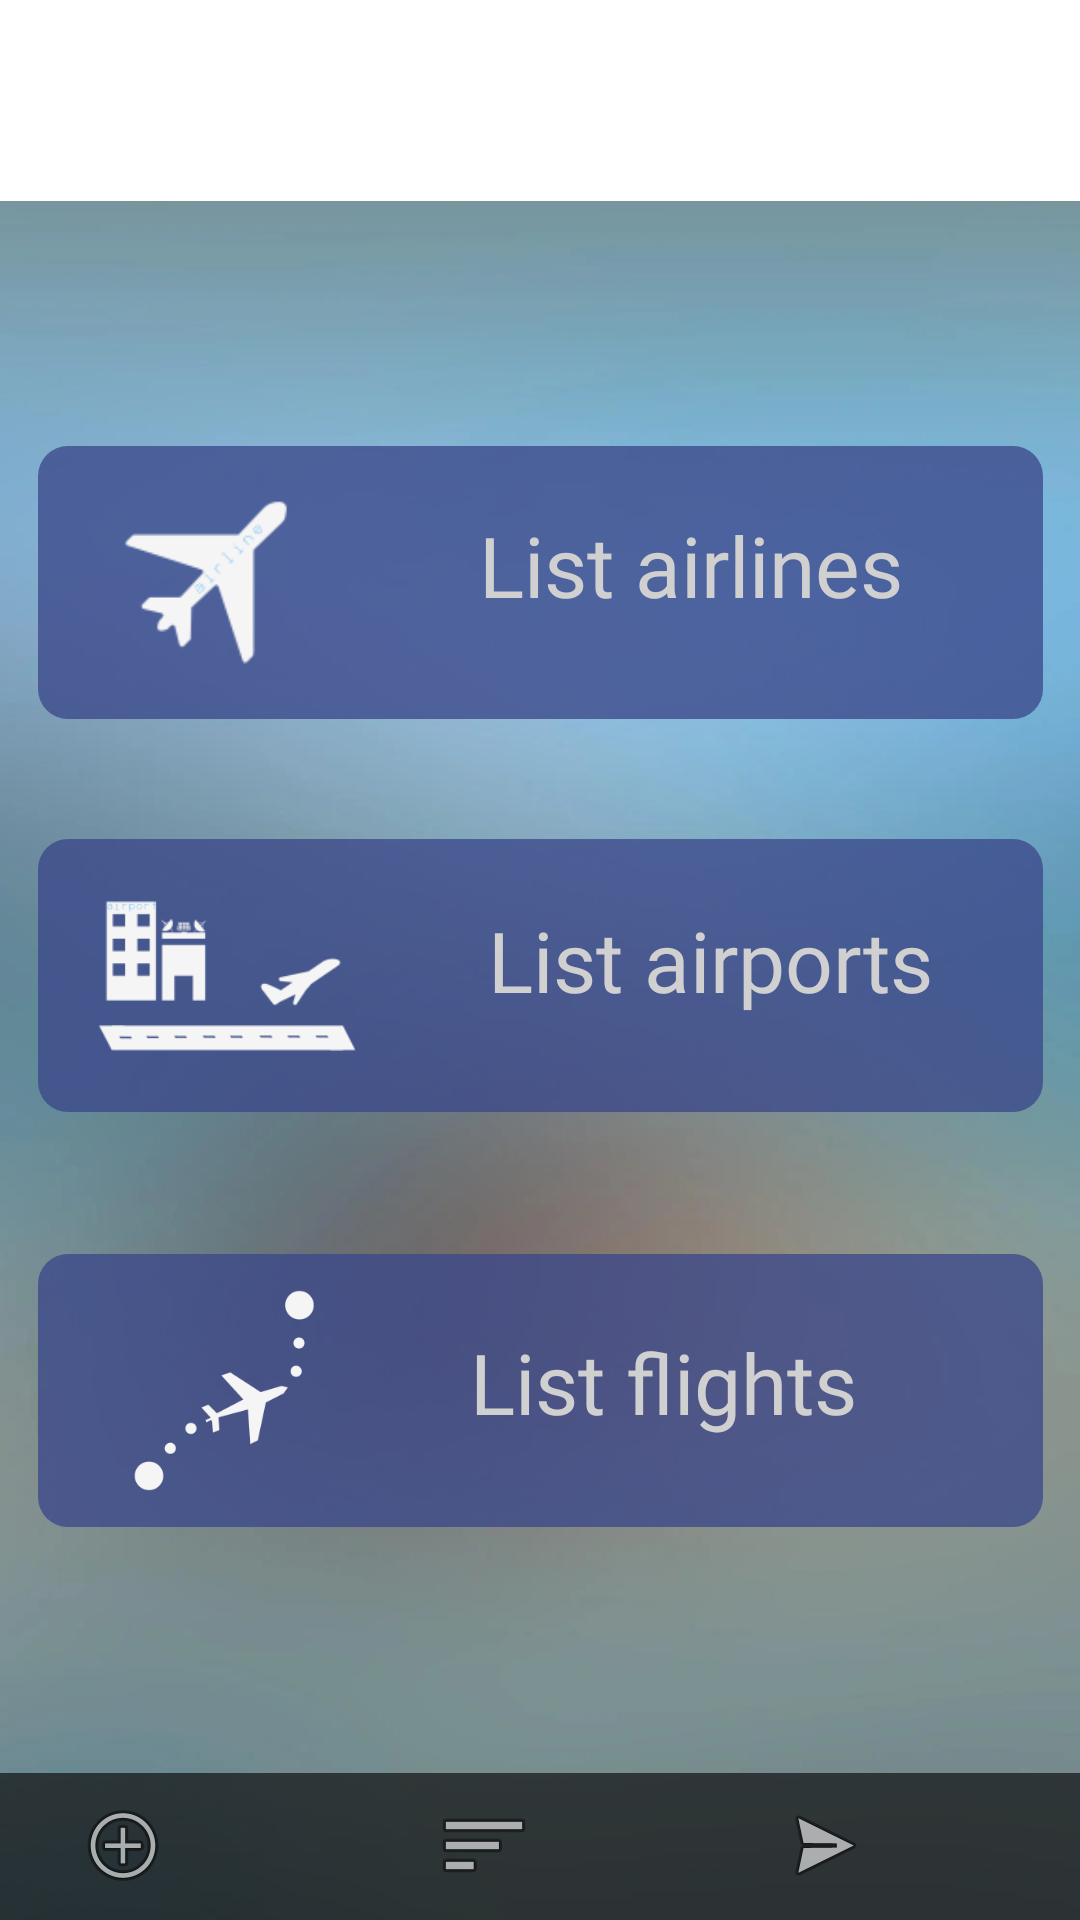

Screen size 1080*1920. Icon name, then its center in pixels as point (x, y):
add: point (123, 1845)
send: point (826, 1845)
sort by size: point (483, 1846)
